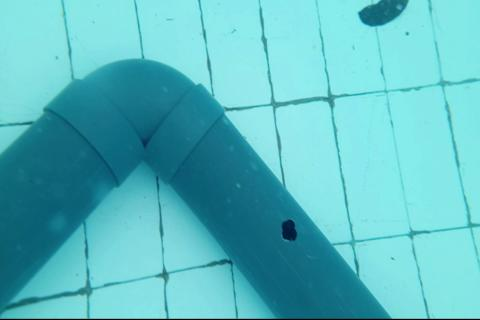kebocoran: (280, 215, 298, 244)
